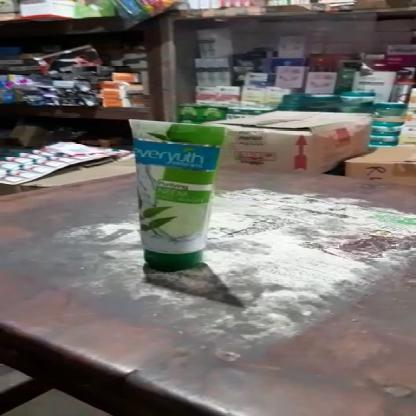EY NATURALS NEEM FACE WASH AY 50G: (127, 122, 228, 271)
